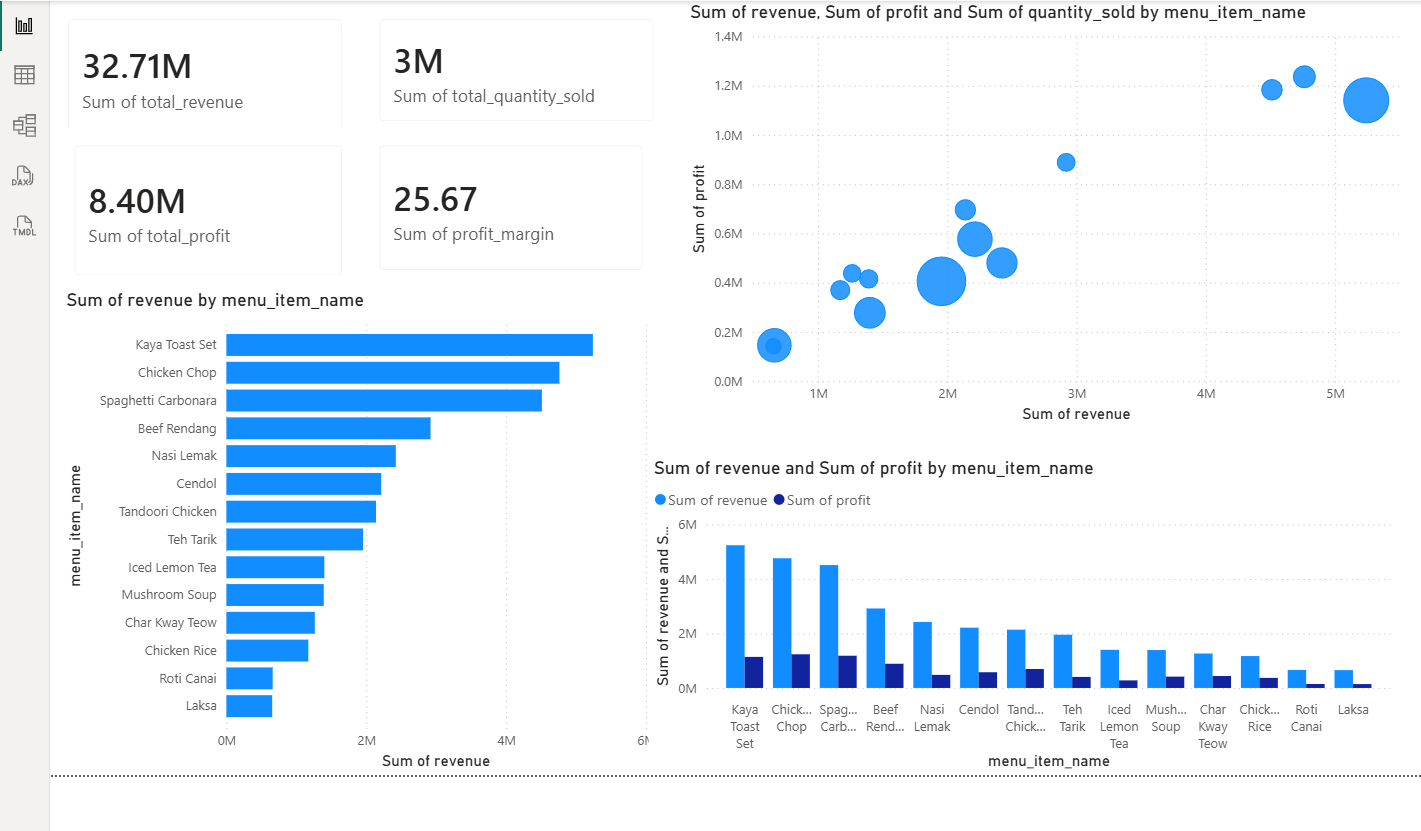

What the dashboard file says about the page in this screenshot:
{"tool":"powerbi","page":{"name":"ExecutiveDashboard","canvas":[1280,720],"ordinal":1},"visuals":[{"type":"cardVisual","fields":{"Data":["Sum(public dashboard_summary_v.total_revenue)"]},"box":[0,0,289.5,139.5],"z":0},{"type":"cardVisual","fields":{"Data":["Sum(public dashboard_summary_v.total_profit)"]},"box":[5.8,117.4,283.7,155.8],"z":1},{"type":"cardVisual","fields":{"Data":["Sum(public dashboard_summary_v.profit_margin)"]},"box":[289.5,117.4,279.1,150],"z":2},{"type":"cardVisual","fields":{"Data":["Sum(public dashboard_summary_v.total_quantity_sold)"]},"box":[289.5,0,289.5,129.1],"z":3},{"type":"clusteredBarChart","fields":{"Category":["public menu_performance_v.menu_item_name"],"Y":["Sum(public menu_performance_v.revenue)"]},"box":[10.5,267.4,558.1,452.3],"z":4},{"type":"clusteredColumnChart","fields":{"Y":["Sum(public menu_performance_v.revenue)","Sum(public menu_performance_v.profit)"],"Category":["public menu_performance_v.menu_item_name"]},"box":[557,424.4,695.4,295.3],"z":5},{"type":"scatterChart","fields":{"X":["Sum(public menu_performance_v.revenue)"],"Y":["Sum(public menu_performance_v.profit)"],"Size":["Sum(public menu_performance_v.quantity_sold)"],"Category":["public menu_performance_v.menu_item_name"]},"box":[590.7,0,679.1,397.7],"z":6}]}

Visuals, with their boxes on the page's 1280x720 design canvas (x1, y1, x2, y2). These are canvas units, not pixel positions in the 1421x831 screenshot, which may show the page scaled, cropped or inside an application window:
cardVisual - Sum(public dashboard_summary_v.total_revenue): x1=0 y1=0 x2=290 y2=140
cardVisual - Sum(public dashboard_summary_v.total_profit): x1=6 y1=117 x2=290 y2=273
cardVisual - Sum(public dashboard_summary_v.profit_margin): x1=290 y1=117 x2=569 y2=267
cardVisual - Sum(public dashboard_summary_v.total_quantity_sold): x1=290 y1=0 x2=579 y2=129
clusteredBarChart - public menu_performance_v.menu_item_name x Sum(public menu_performance_v.revenue): x1=10 y1=267 x2=569 y2=720
clusteredColumnChart - Sum(public menu_performance_v.revenue) x Sum(public menu_performance_v.profit): x1=557 y1=424 x2=1252 y2=720
scatterChart - Sum(public menu_performance_v.revenue) x Sum(public menu_performance_v.profit): x1=591 y1=0 x2=1270 y2=398
